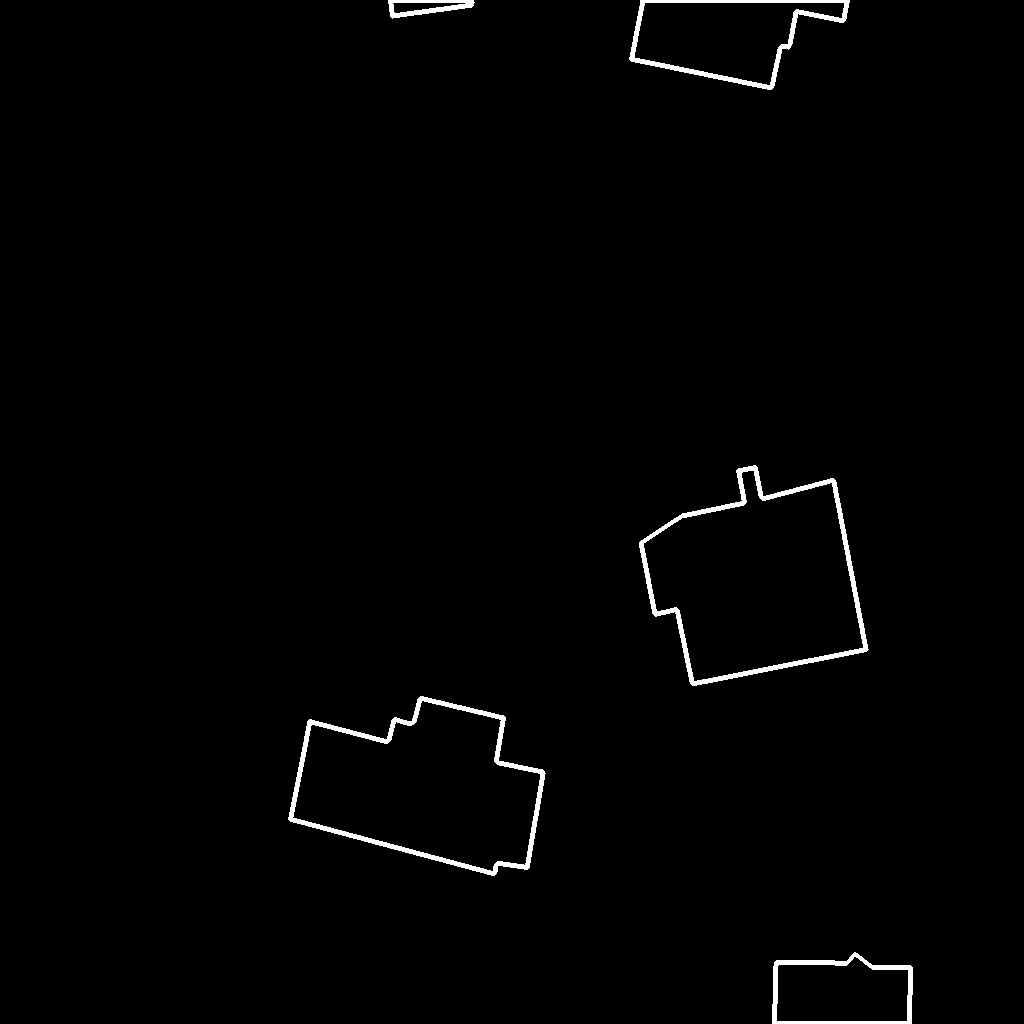building: (641, 467, 867, 685), (290, 698, 544, 875), (631, 0, 849, 89), (774, 954, 912, 1024), (390, 0, 473, 17)
